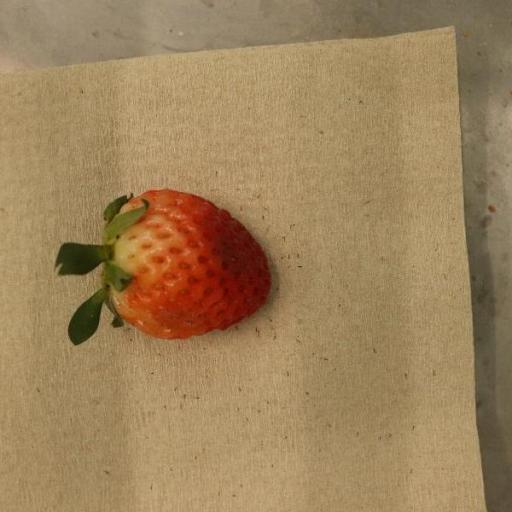Strawberry: (54, 189, 272, 346)
